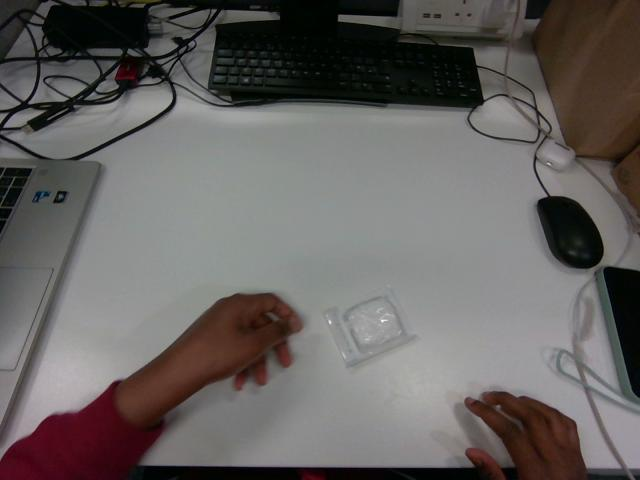gauze: (324, 287, 415, 366)
